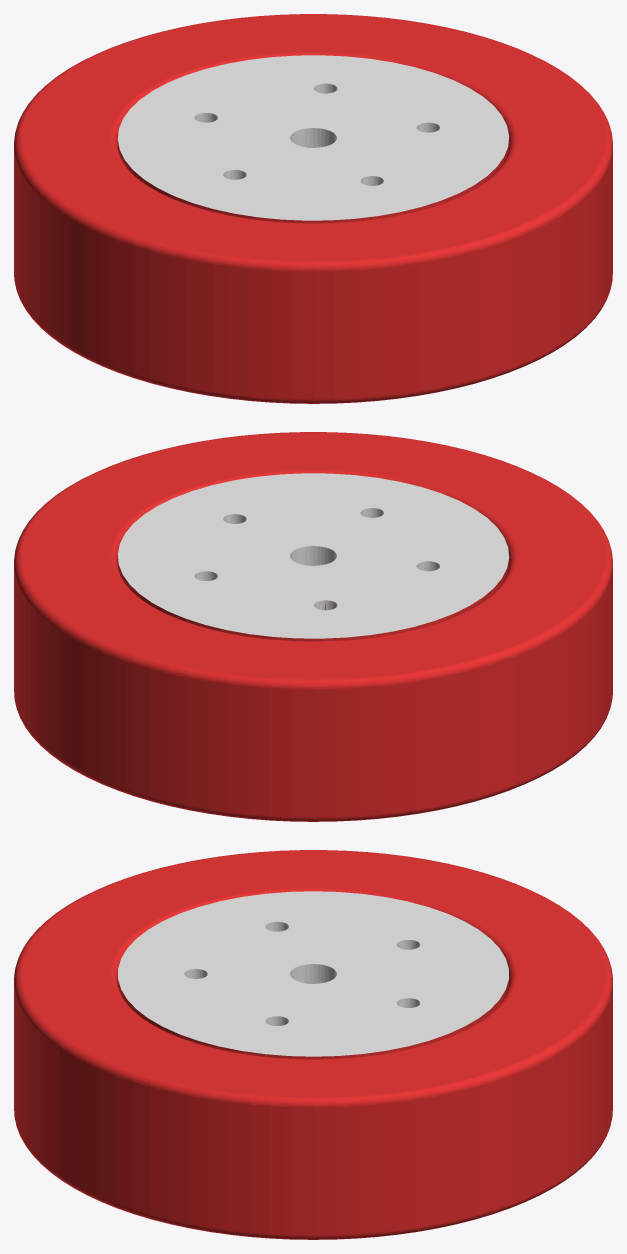
The model's file is PU_WHEEL.dae.
The picture shows the model from 3 angles, top to bottom: view 1: azimuth 30°, elevation 25°; view 2: azimuth 150°, elevation 25°; view 3: azimuth 270°, elevation 25°; orthographic projection.
Visible parts, largest first — view 1: PU wheel; view 2: PU wheel; view 3: PU wheel.
Boxes of the visible parts, bbox=[...] form: PU wheel: bbox=[14, 14, 612, 403]; PU wheel: bbox=[14, 432, 612, 821]; PU wheel: bbox=[14, 850, 612, 1239].
Size of the model in its own units: 0.153 by 0.153 by 0.04.
